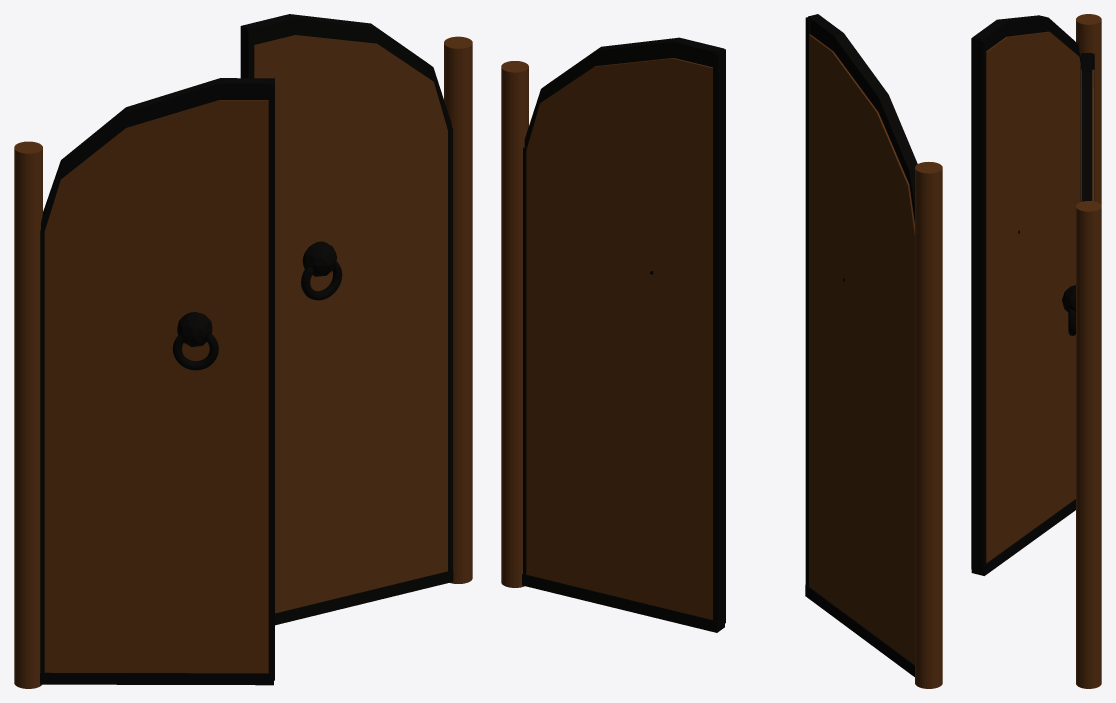
File: gate.fbx
3 views of the same model, side by side, from view 1: azimuth 30°, elevation 25°; view 2: azimuth 150°, elevation 25°; view 3: azimuth 270°, elevation 25° (orthographic). The views are drawn at different scales.
Visible parts, largest first — view 1: Torus, Torus.012, Cylinder, Torus.010, Torus.016, Torus.015, Torus.017, Torus.009, Torus.013; view 2: Torus.012, Torus, Cylinder, Torus.013, Torus.010, Torus.016, Torus.015, Torus.014; view 3: Torus, Cylinder, Torus.010, Torus.012, Torus.013, Torus.017.
Boxes of the visible parts, x1,y1,x2,y2 form: Torus: (40, 78, 274, 685); Torus.012: (254, 35, 447, 613); Cylinder: (14, 36, 472, 688); Torus.010: (242, 14, 451, 128); Torus.016: (275, 570, 453, 625); Torus.015: (447, 127, 452, 571); Torus.017: (302, 241, 337, 276); Torus.009: (301, 261, 342, 300); Torus.013: (240, 25, 254, 78); Torus.012: (526, 58, 712, 619); Torus: (805, 14, 917, 676); Cylinder: (501, 61, 942, 688); Torus.013: (713, 49, 725, 628); Torus.010: (524, 37, 724, 147); Torus.016: (522, 574, 724, 632); Torus.015: (523, 147, 526, 574); Torus.014: (718, 248, 722, 627); Torus: (971, 15, 1080, 575); Cylinder: (1076, 14, 1101, 688); Torus.010: (1081, 53, 1092, 201); Torus.012: (1081, 69, 1094, 201); Torus.013: (1080, 53, 1094, 201); Torus.017: (1062, 285, 1075, 312).
Bounding box in the file's own units: 3644 × 4620 × 1015.
